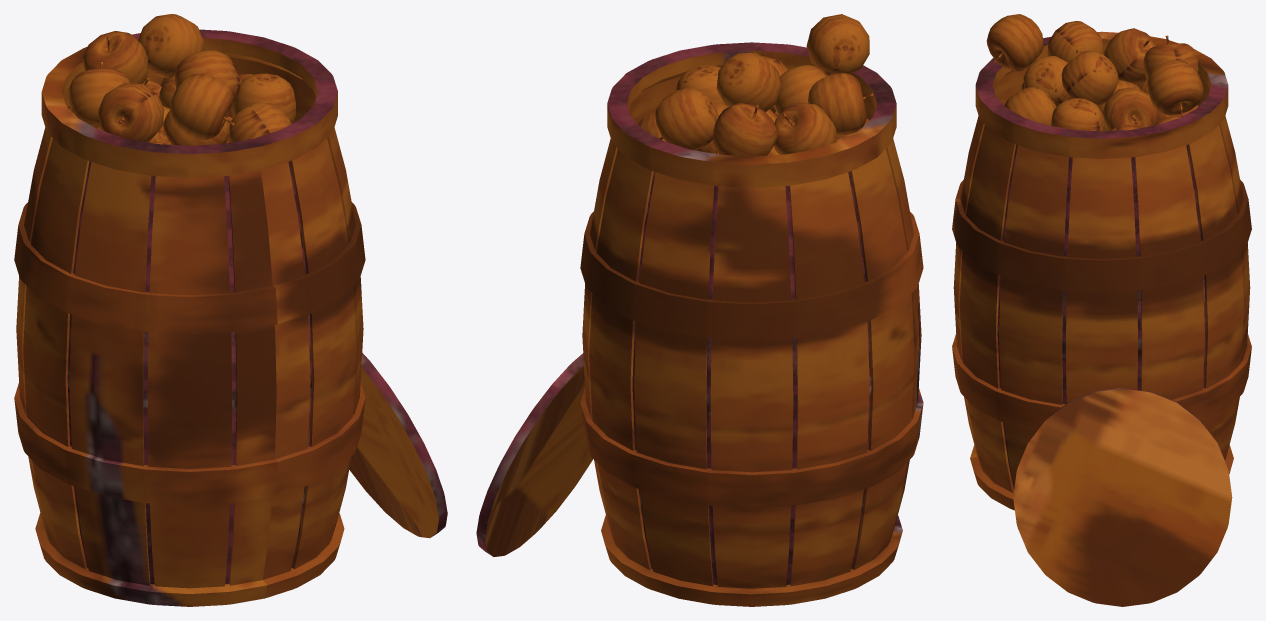
The model's file is fruit barrel_2.fbx.
The picture shows the model from 3 angles, left to right: view 1: azimuth 30°, elevation 25°; view 2: azimuth 150°, elevation 25°; view 3: azimuth 270°, elevation 25°; orthographic projection. The views are drawn at different scales.
Visible parts, largest first — view 1: Circle.003, Circle.004, Plane.1042, Plane.1047, Plane.1037, Plane.1043, Plane.1041, Plane.1030, Plane.1033, Plane.1040, Plane.1044; view 2: Circle.003, Circle.004, Plane.1042, Plane.1037, Plane.1040, Plane.1043, Plane.1047, Plane.1041, Plane.1044, Plane.1030; view 3: Circle.003, Circle.004, Plane.1037, Plane.1042, Plane.1040, Plane.1041, Plane.1036, Plane.1047, Plane.1030, Plane.1044, Plane.1033, Plane.1043.
Part boxes in pixels (x1,y1,x2,y2): Circle.003: [14, 29, 365, 606]; Circle.004: [349, 353, 447, 538]; Plane.1042: [169, 73, 234, 139]; Plane.1047: [98, 83, 164, 142]; Plane.1037: [138, 14, 204, 77]; Plane.1043: [82, 31, 148, 83]; Plane.1041: [68, 62, 129, 128]; Plane.1030: [232, 73, 295, 123]; Plane.1033: [228, 102, 291, 142]; Plane.1040: [175, 50, 240, 101]; Plane.1044: [163, 111, 229, 145]; Circle.003: [580, 42, 923, 606]; Circle.004: [476, 353, 593, 556]; Plane.1042: [806, 14, 869, 75]; Plane.1037: [655, 88, 718, 150]; Plane.1040: [716, 53, 781, 112]; Plane.1043: [712, 103, 777, 156]; Plane.1047: [808, 73, 873, 136]; Plane.1041: [774, 102, 836, 154]; Plane.1044: [774, 65, 826, 115]; Plane.1030: [675, 65, 725, 104]; Circle.003: [952, 31, 1251, 510]; Circle.004: [1013, 388, 1232, 606]; Plane.1037: [1147, 60, 1203, 116]; Plane.1042: [986, 14, 1043, 71]; Plane.1040: [1061, 50, 1118, 106]; Plane.1041: [1104, 28, 1157, 84]; Plane.1036: [1102, 87, 1157, 130]; Plane.1047: [1047, 21, 1104, 62]; Plane.1030: [1051, 98, 1105, 131]; Plane.1044: [1023, 55, 1070, 105]; Plane.1033: [1004, 87, 1056, 125]; Plane.1043: [1143, 35, 1198, 80].
Bounding box in the file's own units: 45.26 × 62.83 × 35.65.
